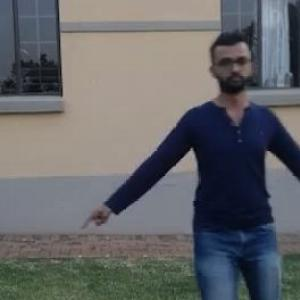land: (73, 49, 299, 299)
